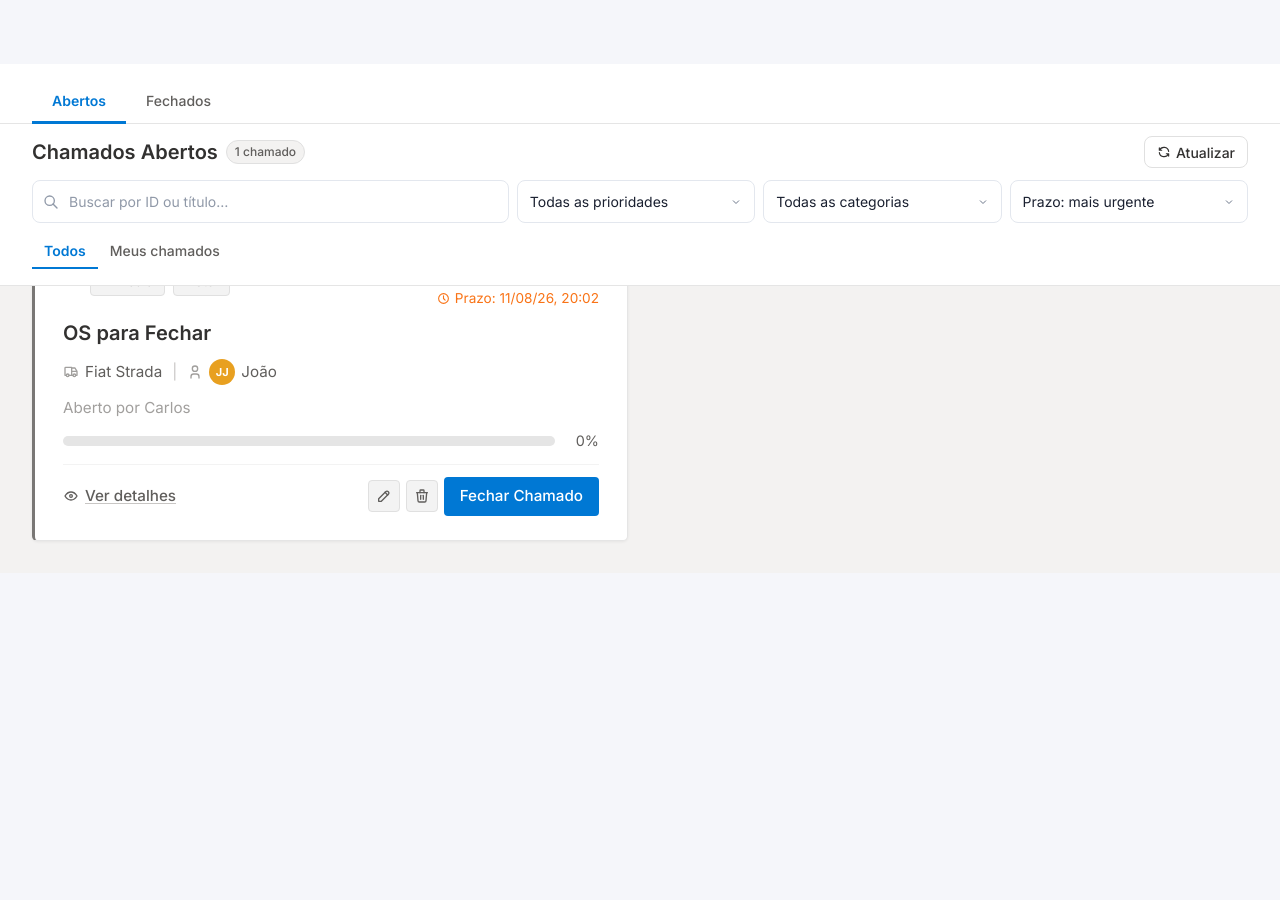
Test: ChamadosClient — modal de fechamento › clicar em "Fechar" abre FecharModal
Click the button with test id "btn-fechar": [521, 496] box x1=444 y1=477 x2=599 y2=516
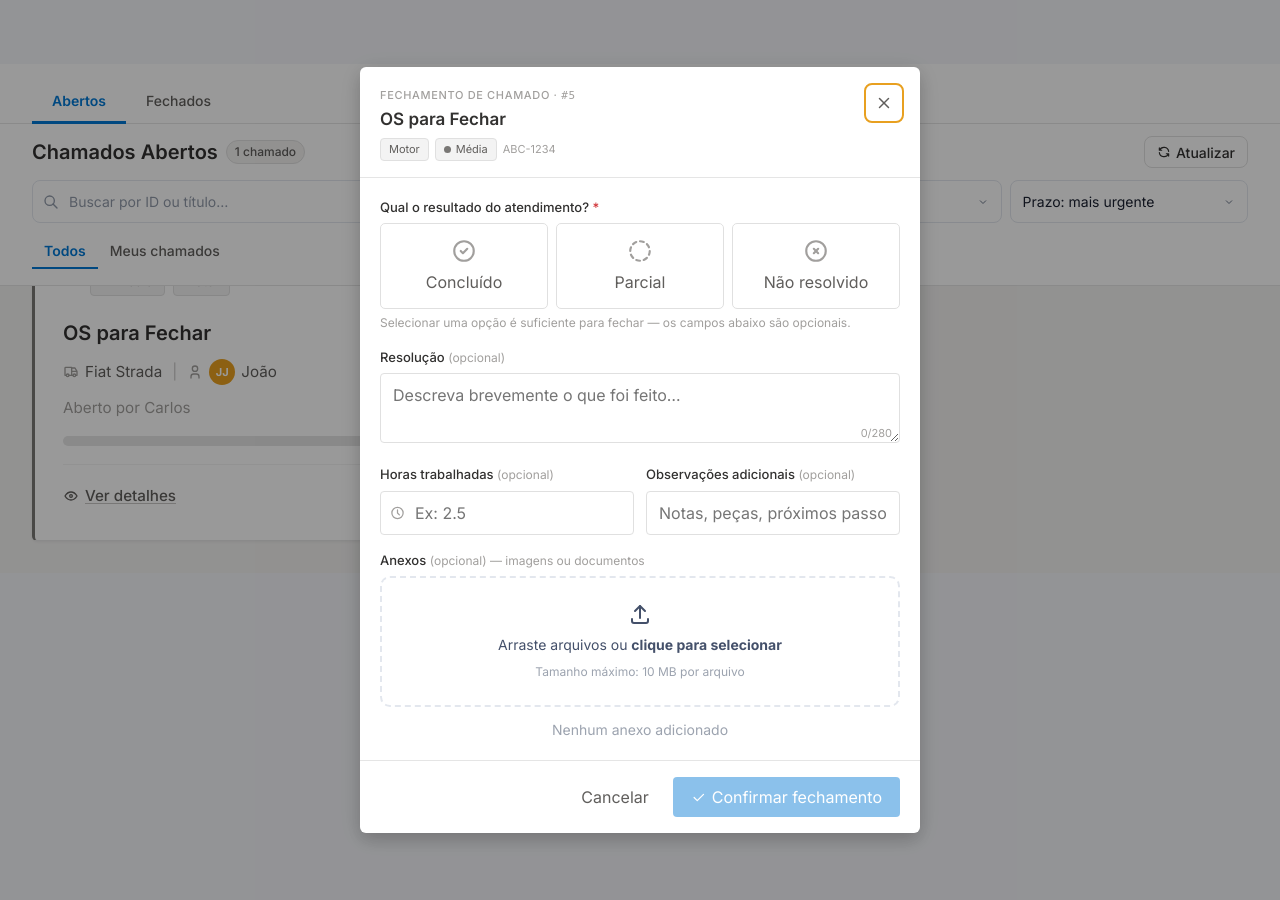
Result: the dialog with test id "fechar-modal" is shown at x1=360 y1=66 x2=920 y2=833
